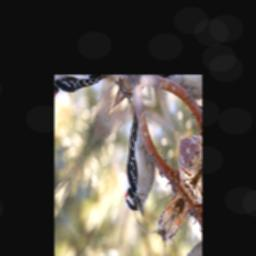Woodpecker: (100, 107, 177, 223)
